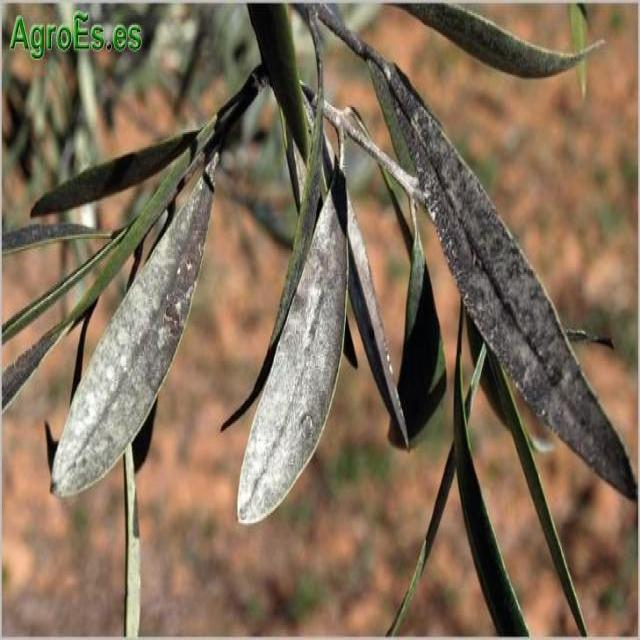OlivePeacockSpot: (380, 60, 636, 503), (49, 154, 218, 496), (238, 175, 347, 523)
